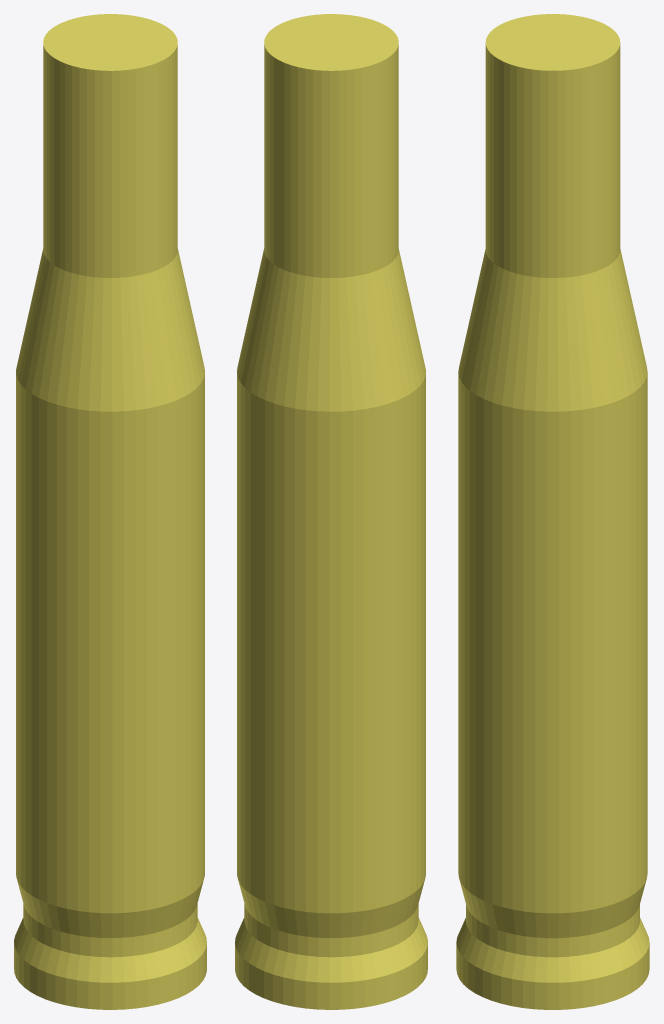
File: ShellCasing.glb
3 renders of one model, left to right at view 1: azimuth 30°, elevation 25°; view 2: azimuth 150°, elevation 25°; view 3: azimuth 270°, elevation 25°, orthographic.
Parts seen in each view (by area): view 1: Shell casing object; view 2: Shell casing object; view 3: Shell casing object.
Part boxes in pixels (x1,y1,x2,y2): Shell casing object: (14, 14, 206, 1009); Shell casing object: (235, 14, 427, 1009); Shell casing object: (456, 14, 649, 1009).
Size of the model in its own units: 0.0143 by 0.0758 by 0.0143.
